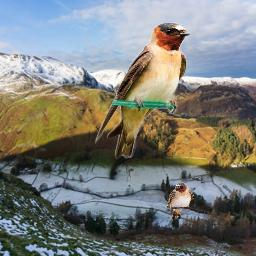Swallow: (95, 22, 191, 159), (167, 182, 194, 219)
